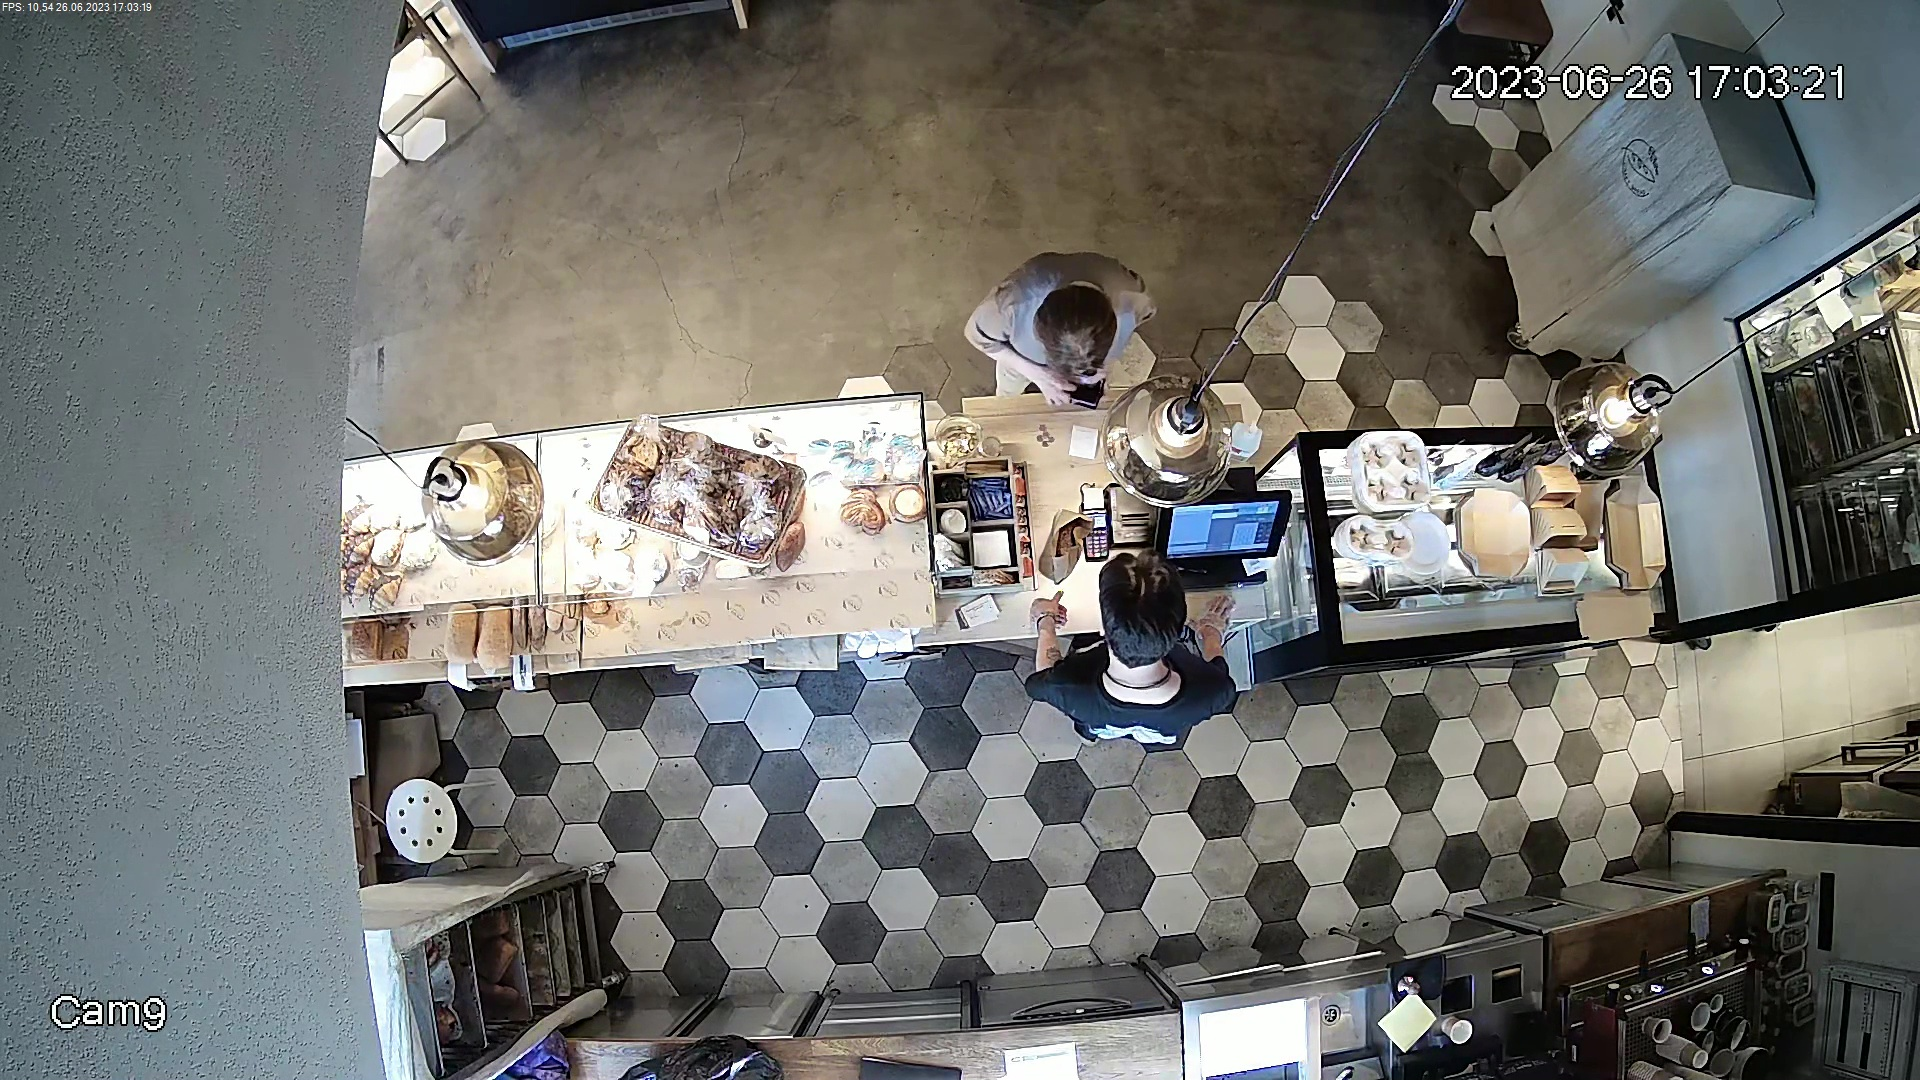barcounter: (351, 425, 1660, 659)
pack: (1038, 503, 1094, 586)
person: (971, 248, 1160, 413)
